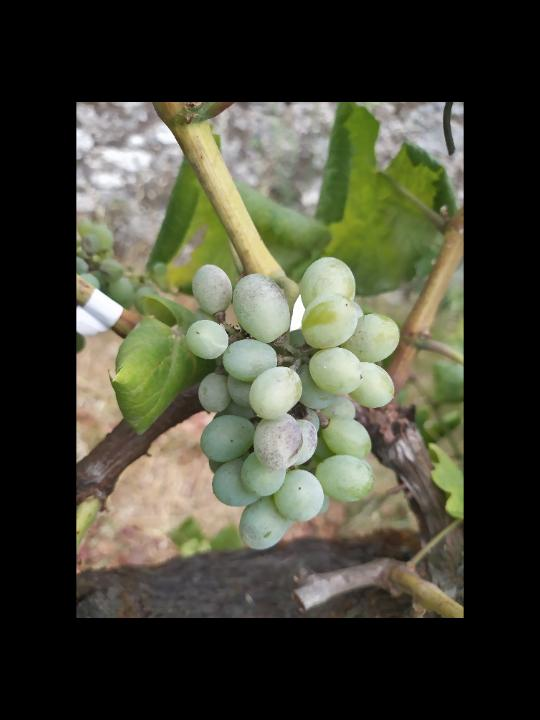grape: (183, 253, 402, 551)
